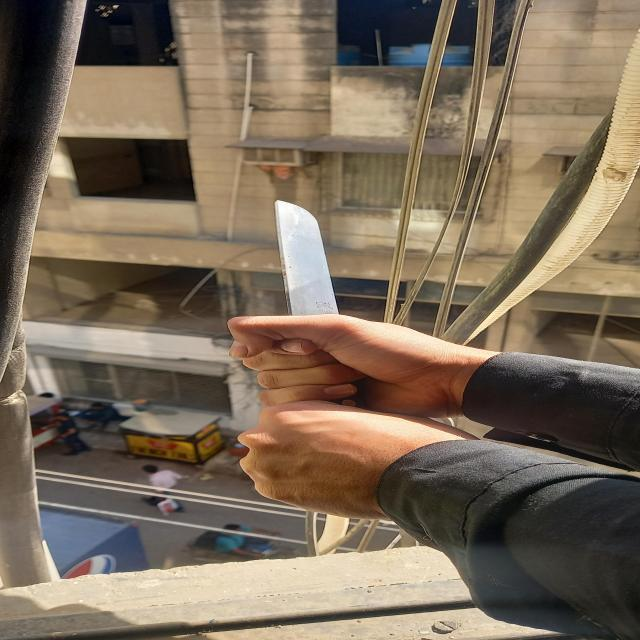faca: (271, 200, 342, 314)
